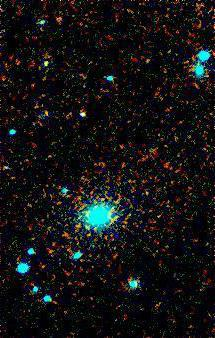star: (32, 46, 62, 76)
